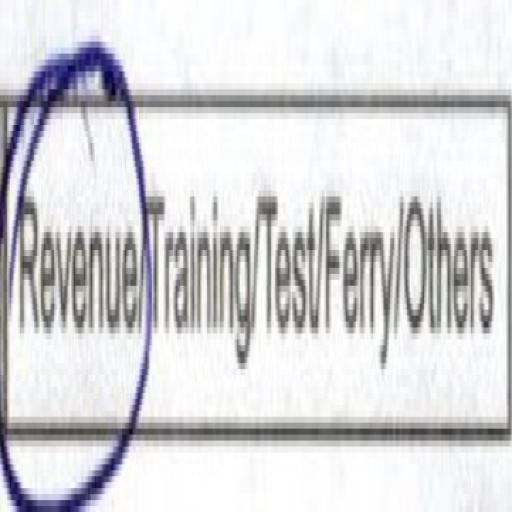check: (0, 39, 138, 512)
